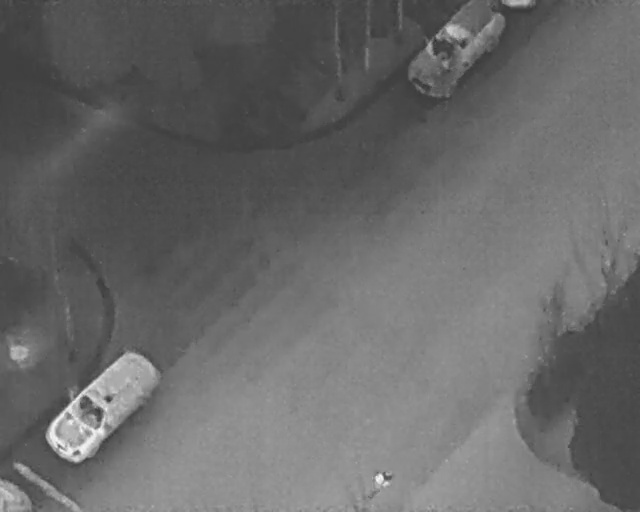Car: (37, 338, 167, 471), (407, 2, 504, 105)
